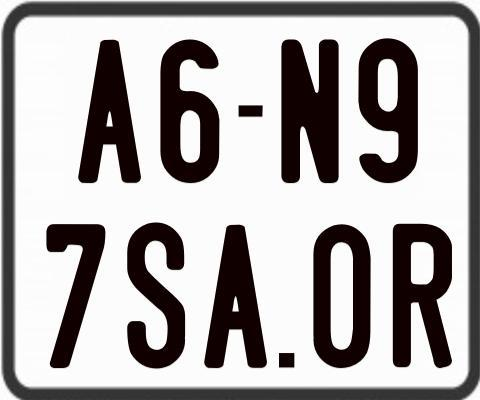0: (311, 222, 372, 372)
6: (159, 40, 219, 185)
7: (46, 223, 108, 372)
9: (356, 37, 418, 188)
A: (76, 38, 140, 185), (204, 223, 267, 368)
N: (281, 38, 344, 183)
R: (391, 224, 454, 369)
S: (126, 219, 190, 367)
